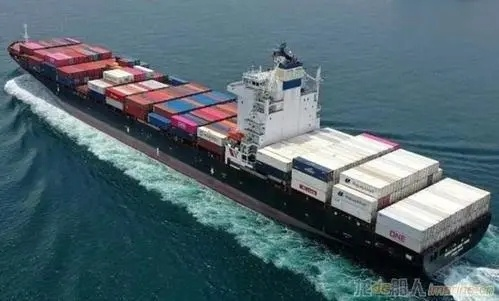Cargoship: (4, 21, 493, 273)
